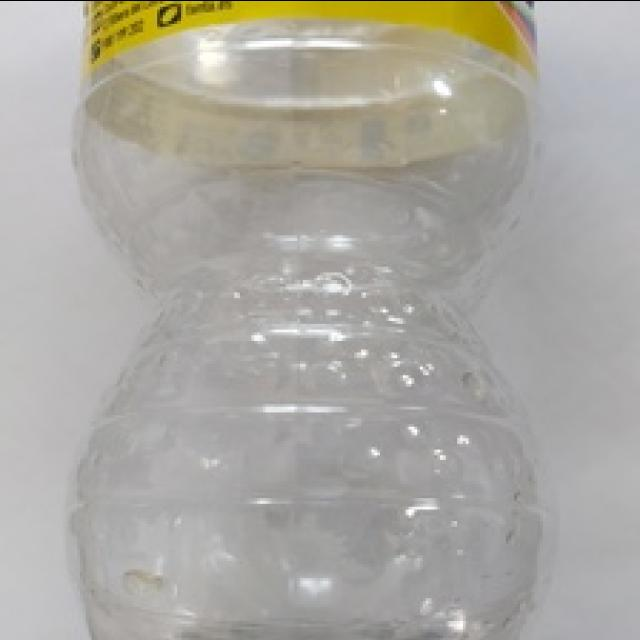寶特瓶: (69, 0, 536, 638)
